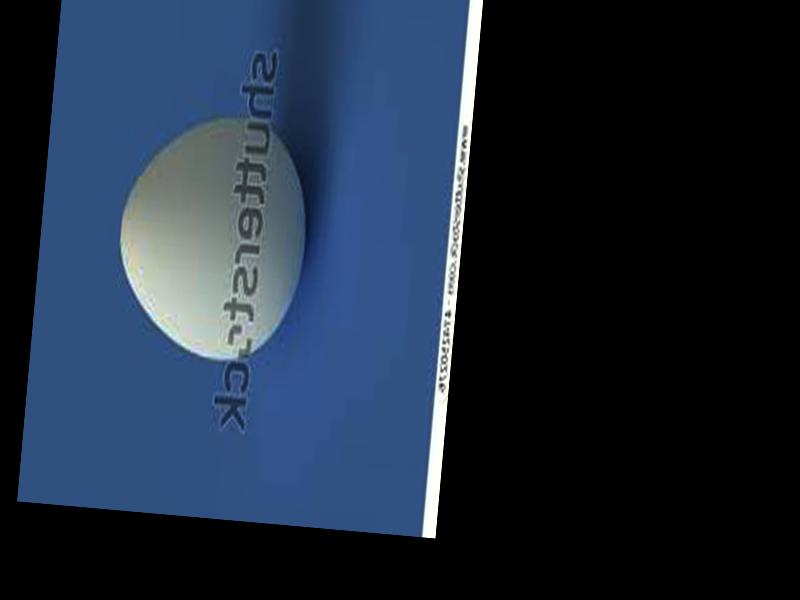Eggs: (110, 107, 317, 368)
